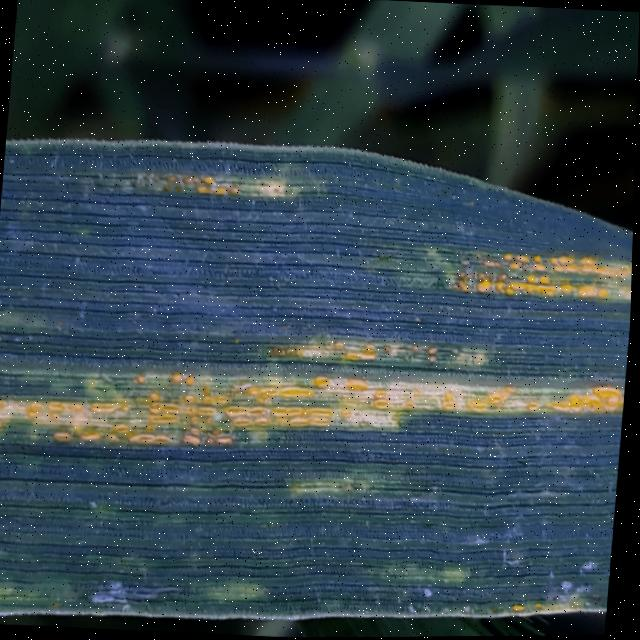yellow_rust: (0, 103, 638, 640)
